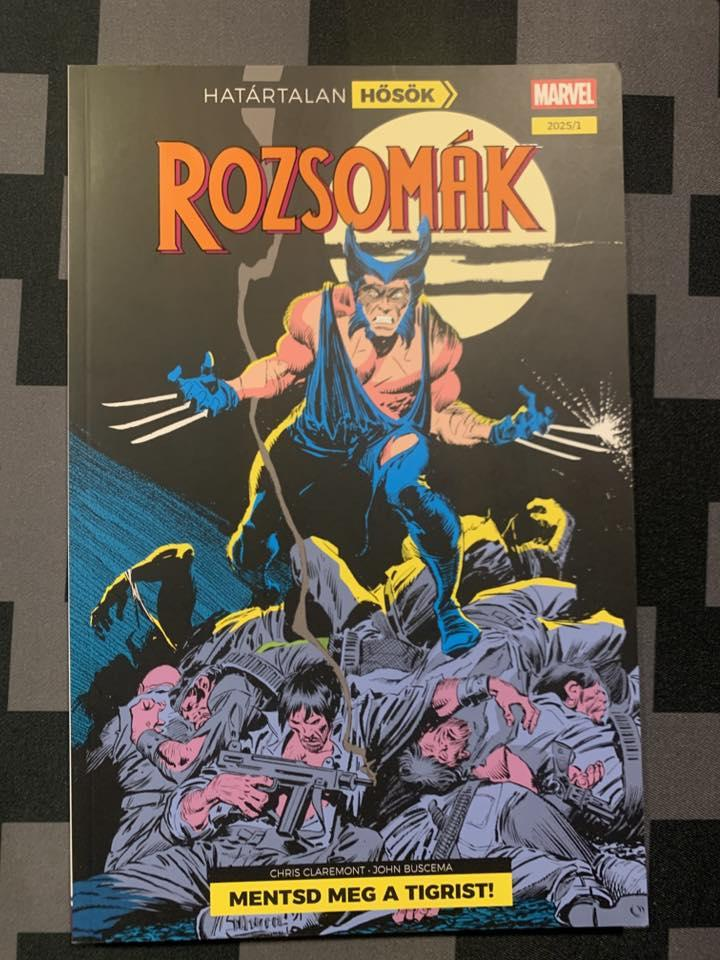comic: (63, 61, 647, 940)
